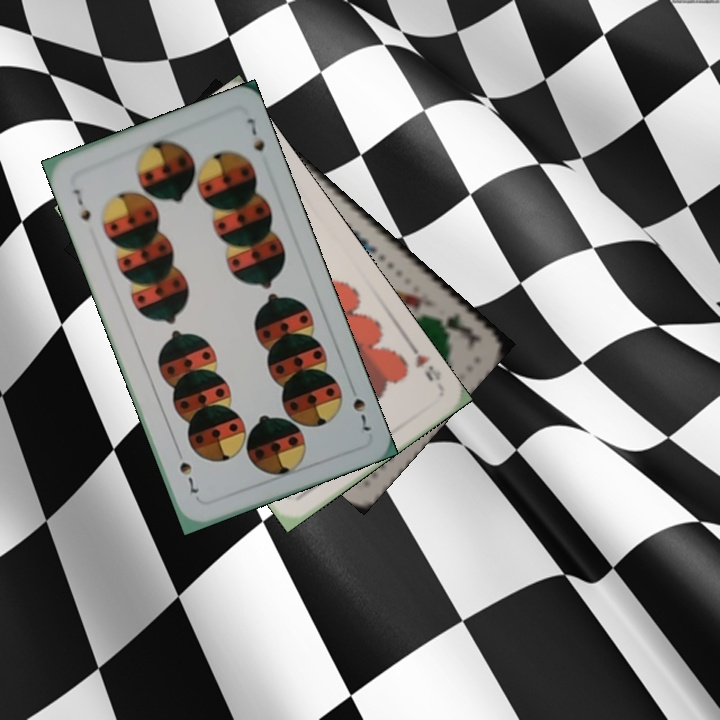GK: (432, 308, 479, 340)
H9: (404, 338, 444, 384)
S7: (345, 380, 375, 434), (69, 185, 94, 224)
